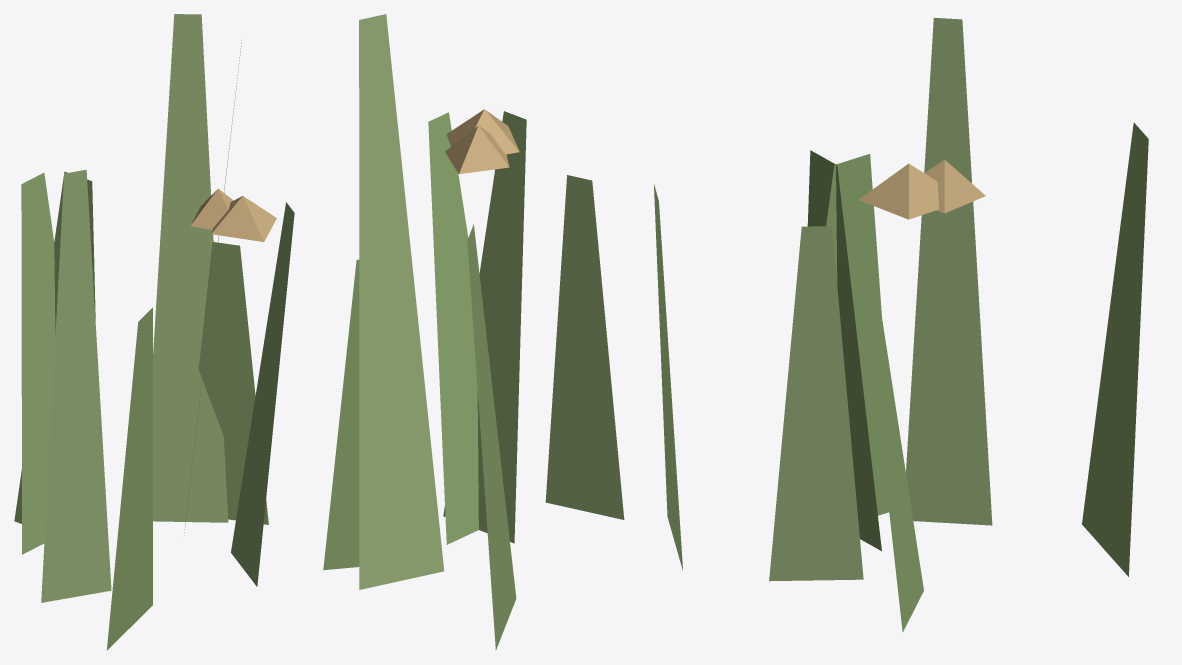
The model's file is crop.temp.rice__spring.glb.
3 renders of one model, left to right at view 1: azimuth 30°, elevation 25°; view 2: azimuth 150°, elevation 25°; view 3: azimuth 270°, elevation 25°, orthographic. The views are drawn at different scales.
Parts seen in each view (by area): view 1: crop.temp.rice__spring; view 2: crop.temp.rice__spring; view 3: crop.temp.rice__spring.
Boxes of the visible parts, box(x1,y1,x2,y2) form: crop.temp.rice__spring: box(14, 14, 294, 650); crop.temp.rice__spring: box(323, 14, 682, 649); crop.temp.rice__spring: box(769, 18, 1148, 632).
Size of the model in its own units: 0.4922 by 0.8973 by 0.5649.
